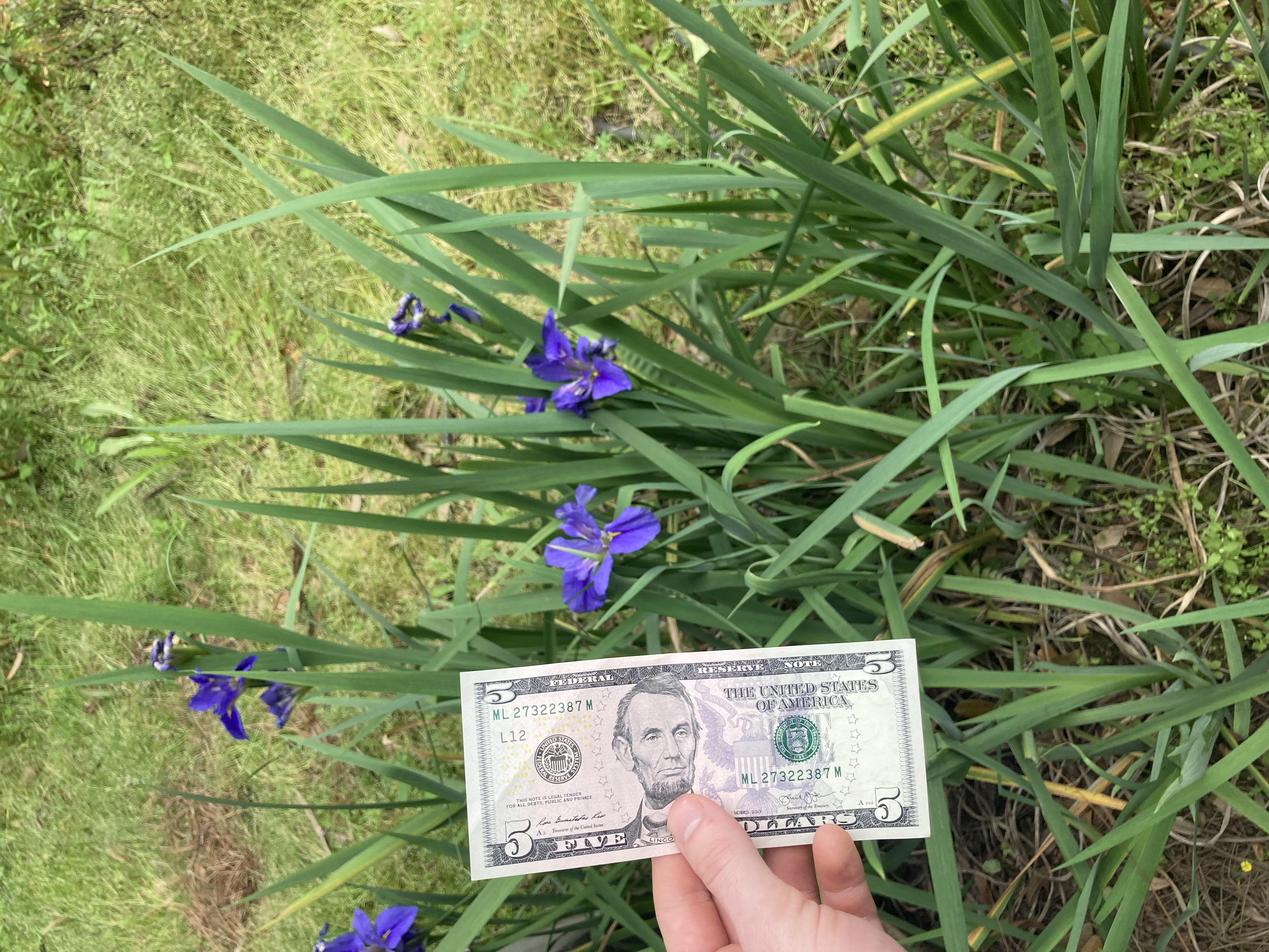five-front: (96, 344, 419, 700)
